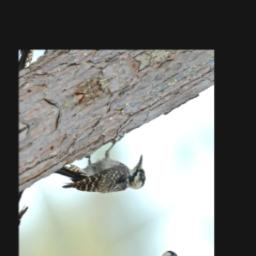Woodpecker: (49, 121, 154, 228)
